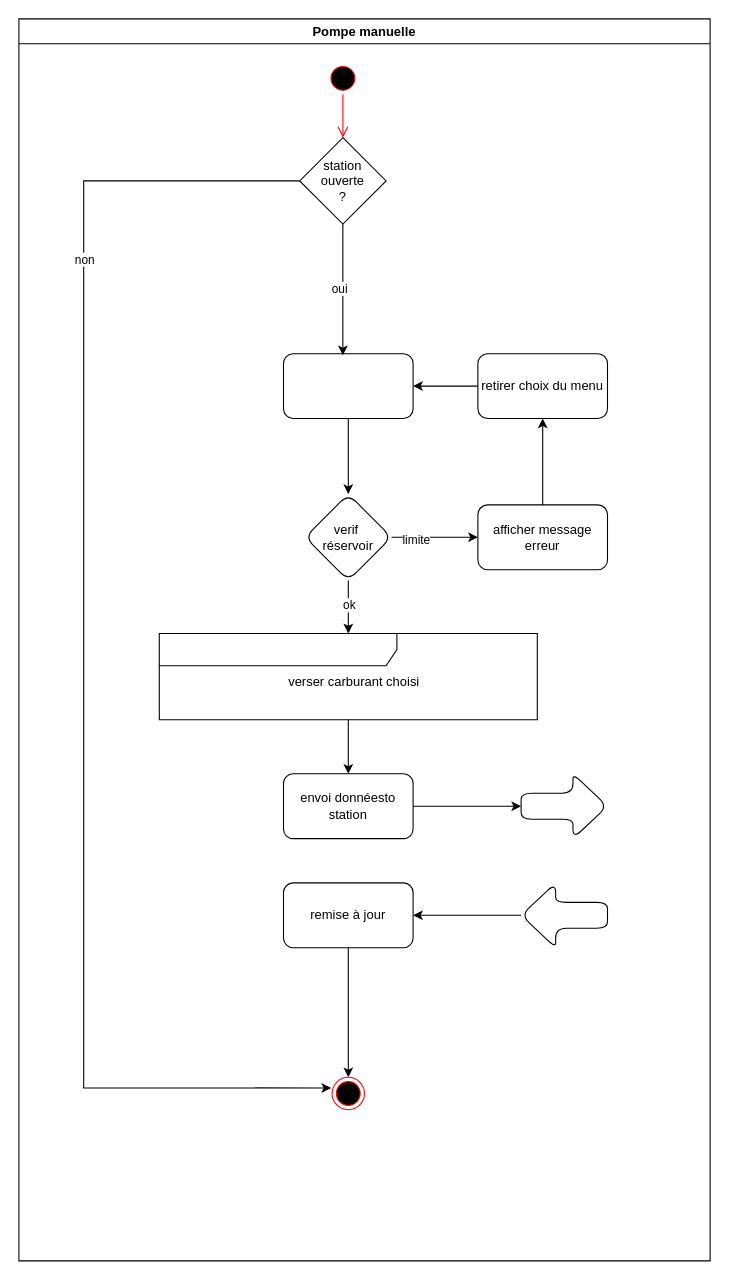
Image size: 729x1280. Some labels were removed from this diagram. Here are the shapes that lost their labels. From the top down, the box of each, then its label:
(282, 353, 413, 418): choix carburant
(158, 632, 537, 720): réservoir != plein && manette ok
(520, 773, 608, 839): paiement
